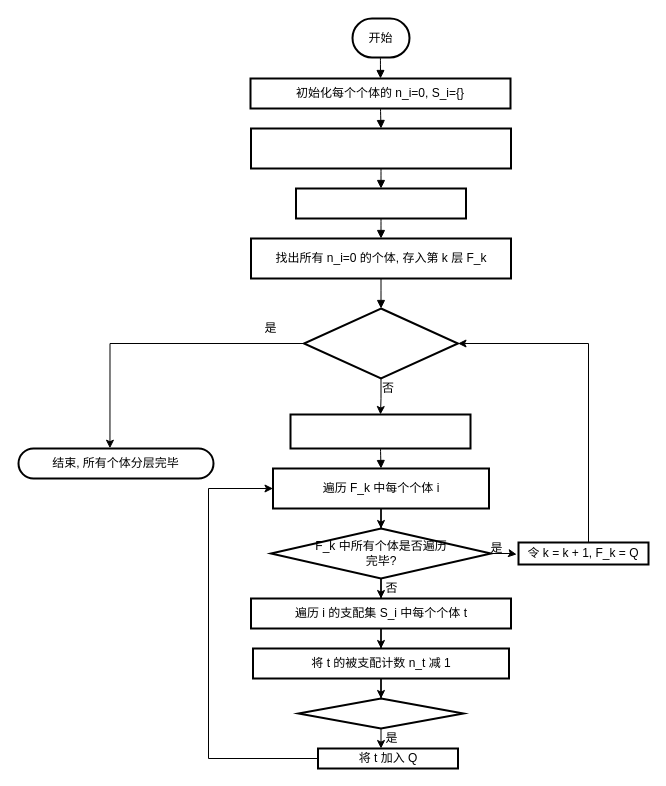
Some shapes in this 666 by 786 pixel diagram are drawn without their labels. Here are the shapes that lost their labels. From the top down, the centre of each, then its label:
At point (381, 148): "遍历所有个体对(i,j), 更新支配关系和n_i, S_i".
At point (380, 203): "令当前层号 k=1".
At point (380, 343): "F_k 是否为空?".
At point (380, 431): "初始化下一层集合 Q = {}".
At point (380, 713): "n_t 是否变为 0?".
